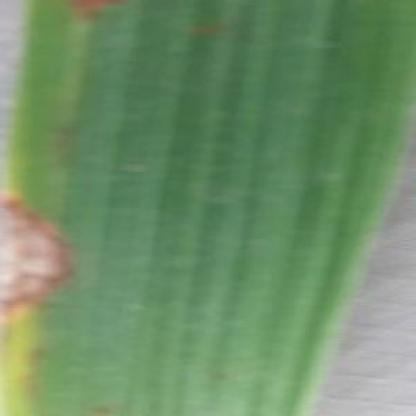Rice blast: (1, 187, 79, 330)
